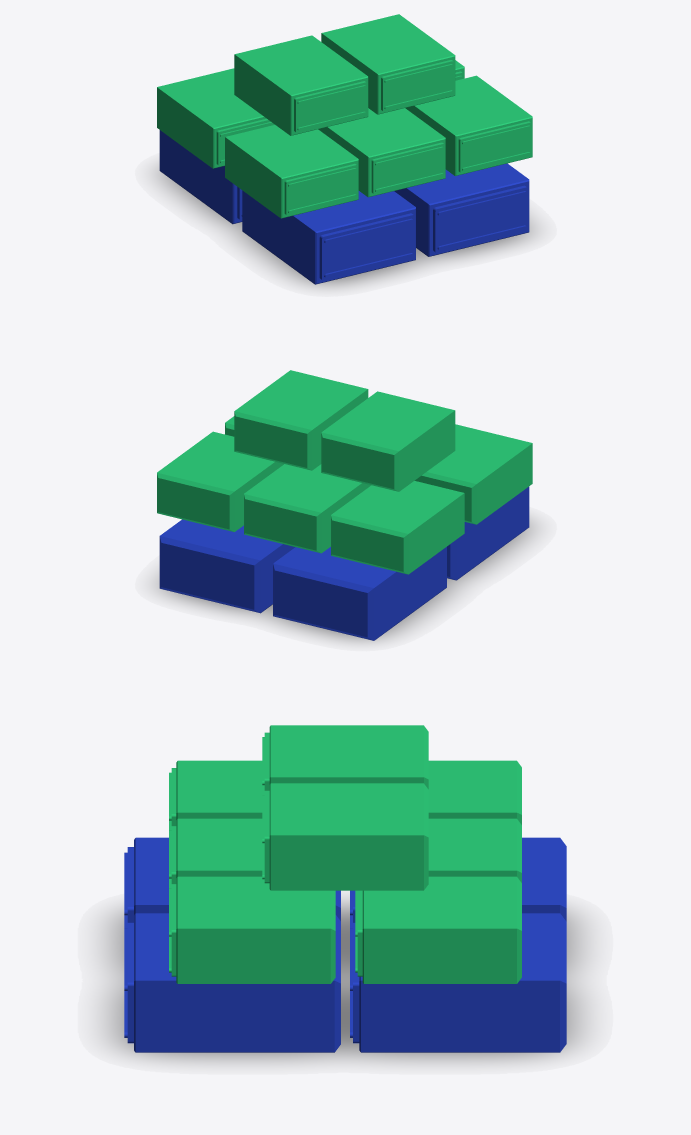
The model's file is sett-scroll-cijfer-96kwh.glb.
3 views of the same model, one above another, from view 1: azimuth 30°, elevation 25°; view 2: azimuth 150°, elevation 25°; view 3: azimuth 270°, elevation 25° (orthographic). The views are drawn at different scales.
Parts seen in each view (by area): view 1: accu (×6), Block_large_01 (×3), contact_shadow; view 2: accu (×6), Block_large_01 (×3), contact_shadow; view 3: accu (×8), Block_large_01 (×4), contact_shadow.
Part boxes in pixels (left/top/right/bottom): accu (×6): left=157, top=14, right=532, bottom=218; Block_large_01 (×3): left=159, top=130, right=529, bottom=284; contact_shadow: left=157, top=169, right=534, bottom=287; accu (×6): left=157, top=370, right=532, bottom=574; Block_large_01 (×3): left=159, top=486, right=529, bottom=640; contact_shadow: left=157, top=521, right=534, bottom=641; accu (×8): left=169, top=725, right=521, bottom=983; Block_large_01 (×4): left=124, top=837, right=566, bottom=1052; contact_shadow: left=106, top=901, right=584, bottom=1061.
Size of the model in its own units: 271 by 90.5 by 271.
3 materials, 1 textured.
